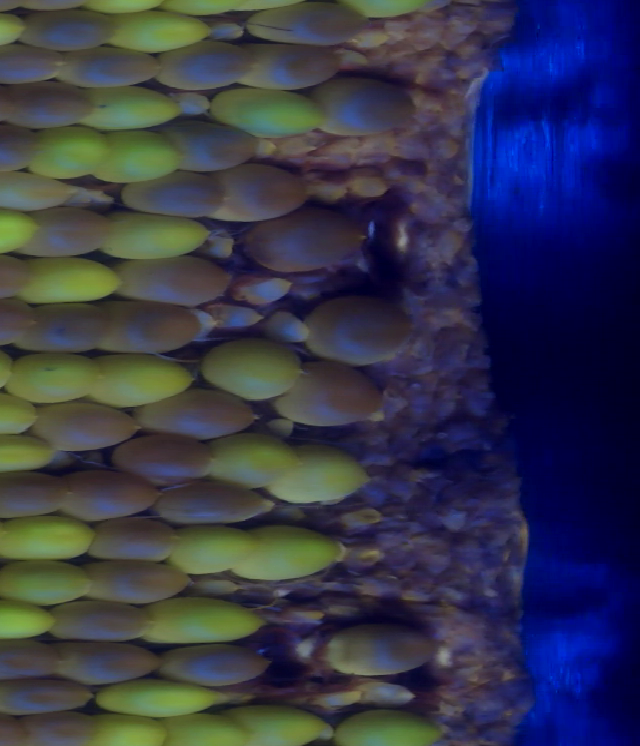fluorescent: (202, 329, 313, 409), (81, 347, 206, 415), (134, 589, 272, 650), (0, 343, 116, 415), (267, 437, 377, 510), (209, 79, 331, 144), (227, 523, 349, 587), (8, 247, 129, 310), (90, 673, 235, 725), (204, 429, 309, 495), (99, 206, 216, 265), (87, 122, 191, 188), (76, 80, 193, 138), (21, 117, 120, 185), (162, 519, 267, 577), (106, 4, 218, 58), (0, 555, 100, 615), (0, 510, 103, 566), (324, 701, 446, 746), (226, 701, 327, 746), (152, 710, 254, 746), (0, 426, 64, 483), (0, 594, 63, 650), (79, 709, 174, 746), (0, 200, 48, 261), (0, 386, 45, 445), (0, 5, 42, 57)
nonfluorescent: (245, 199, 372, 279), (273, 357, 392, 438), (302, 291, 419, 372), (306, 73, 425, 143), (149, 473, 283, 535), (327, 613, 443, 684), (129, 385, 265, 444), (153, 115, 270, 183), (111, 250, 237, 313), (89, 295, 207, 359), (234, 38, 353, 99), (107, 428, 220, 491), (119, 167, 237, 227), (55, 465, 165, 529), (10, 299, 122, 361), (30, 397, 146, 456), (47, 634, 167, 691), (206, 163, 314, 226), (43, 595, 159, 652), (246, 1, 377, 51), (81, 555, 199, 610), (23, 201, 126, 264), (159, 639, 274, 692), (153, 38, 259, 95), (78, 514, 186, 569), (13, 5, 123, 58), (54, 43, 170, 93), (3, 78, 101, 135), (0, 467, 81, 527), (0, 673, 102, 720), (0, 39, 75, 90), (0, 636, 71, 687), (0, 294, 50, 354), (0, 122, 44, 177), (0, 246, 39, 308)
